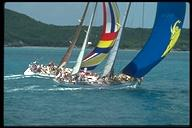mountain: (5, 8, 68, 48)
sailboat: (51, 2, 186, 89), (22, 3, 122, 81)
sky: (42, 4, 76, 22)
water: (5, 89, 188, 124)
